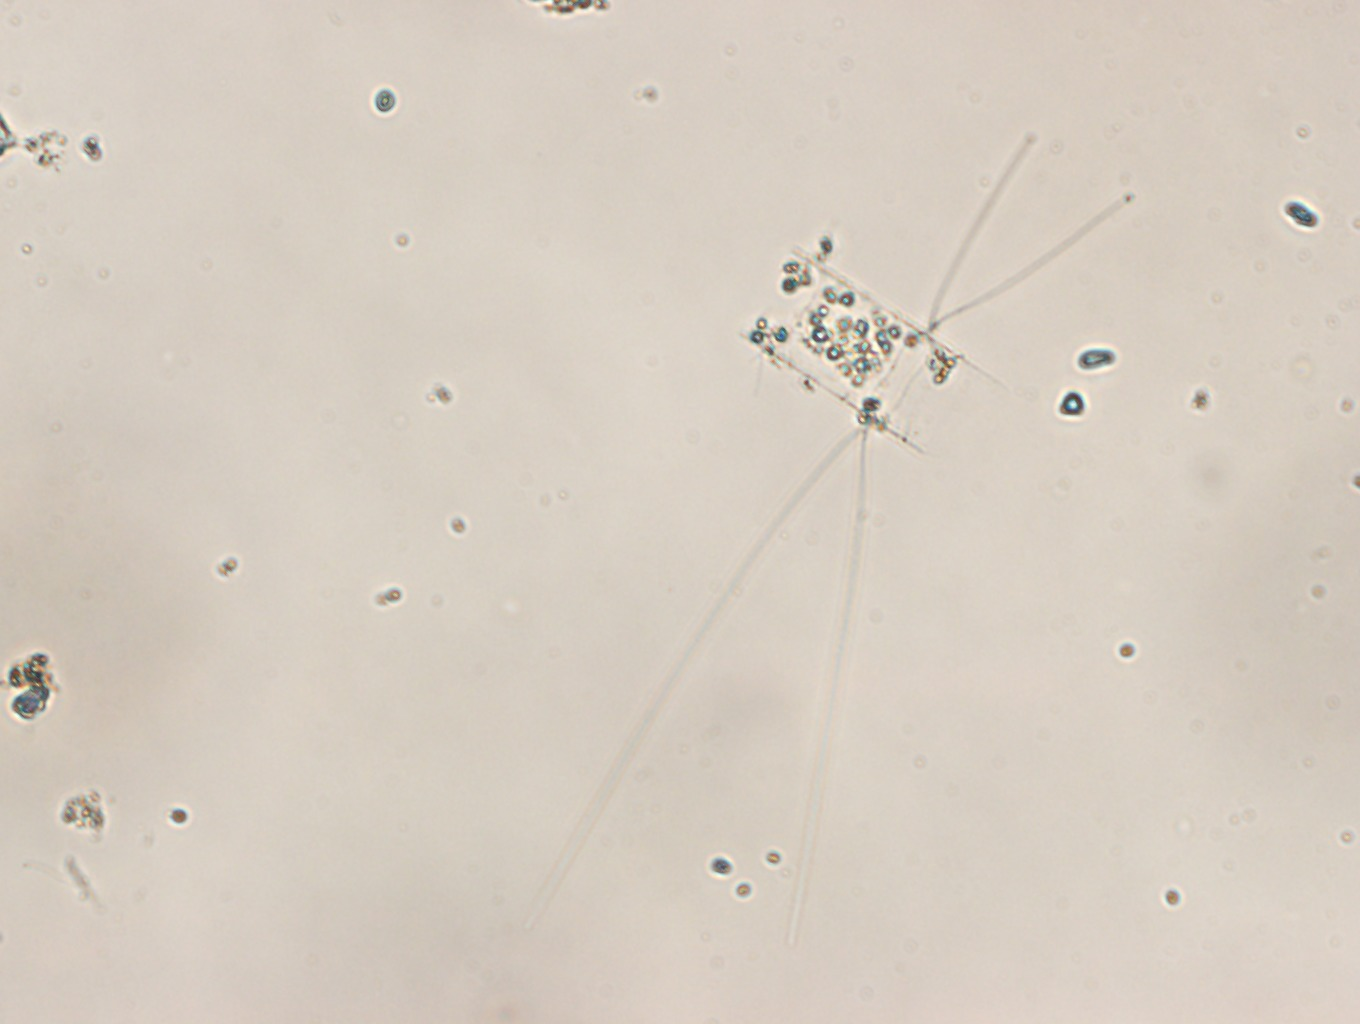chaetoceros: (518, 134, 1139, 959)
